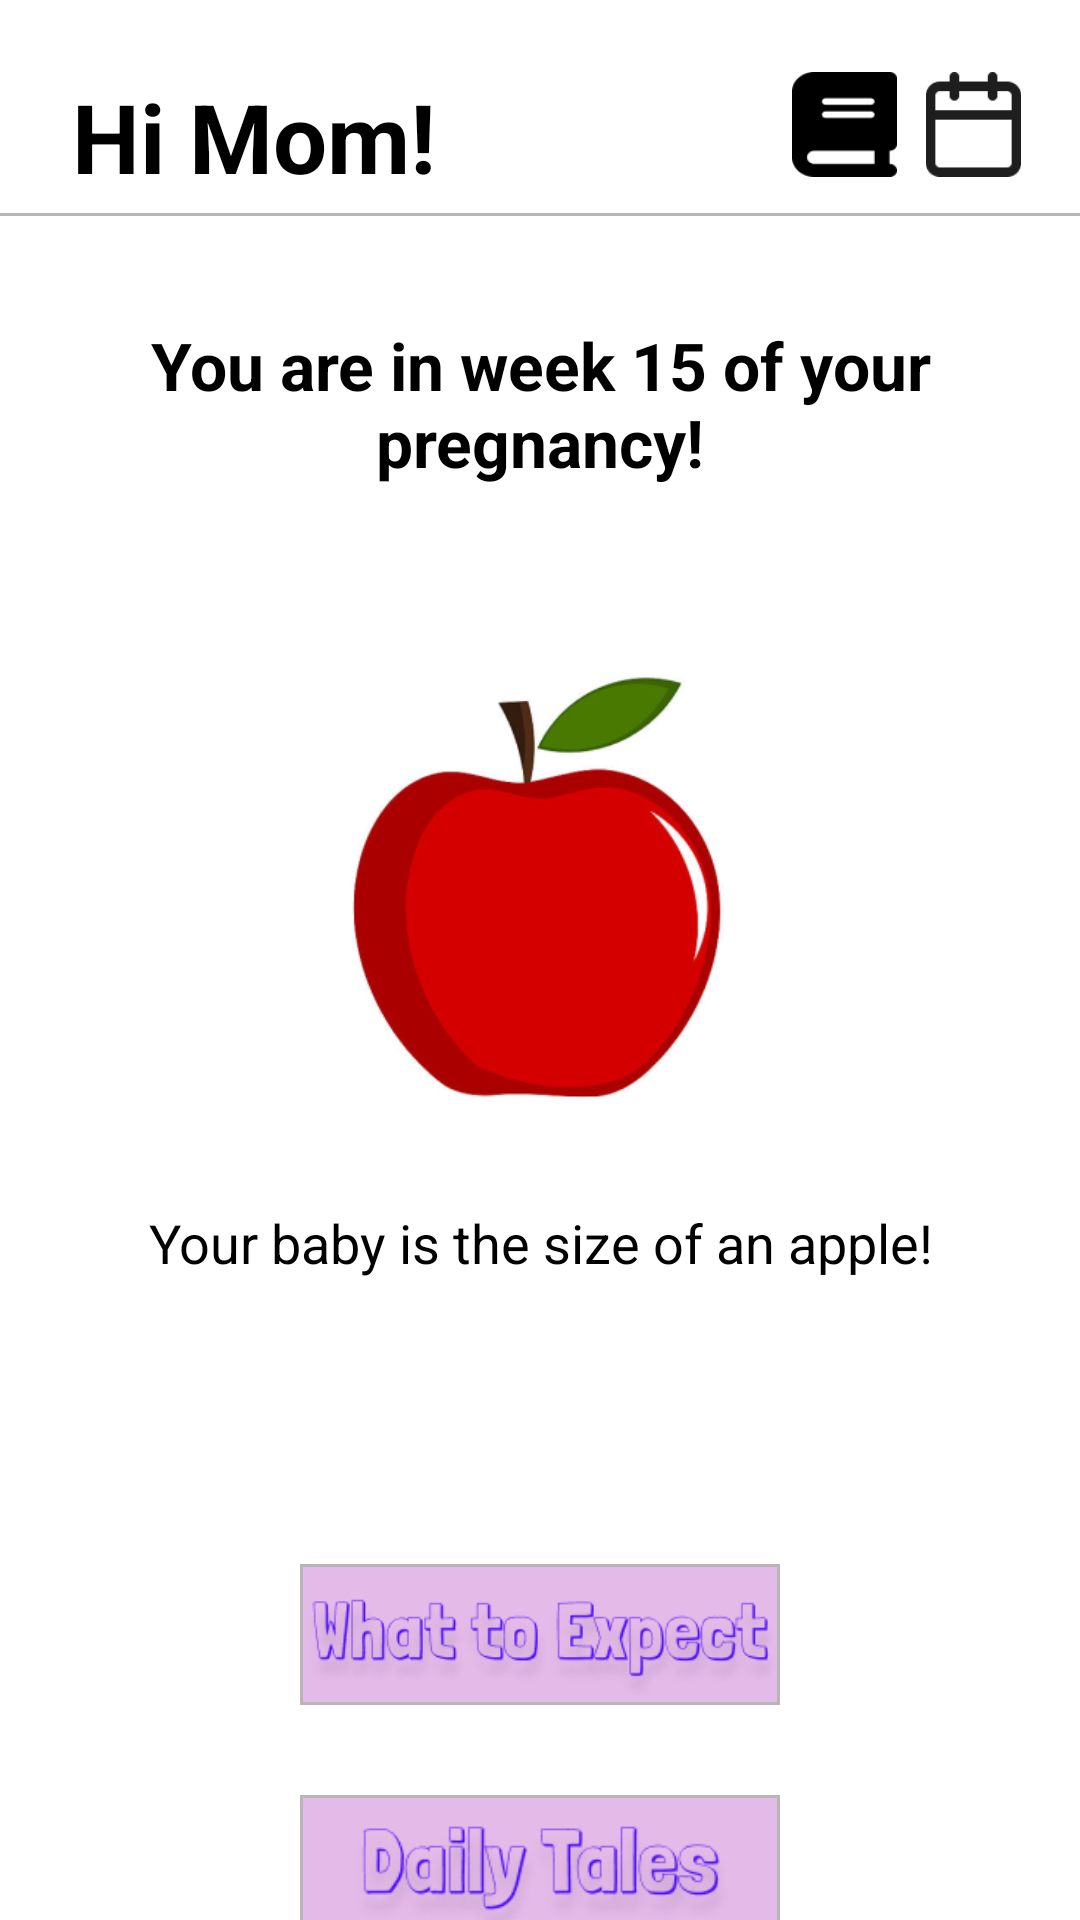

Icons on this 1080 × 1920 Android screen, each with the point to tap as (x=x, y=y):
date: (x=973, y=124)
notes: (x=844, y=124)
